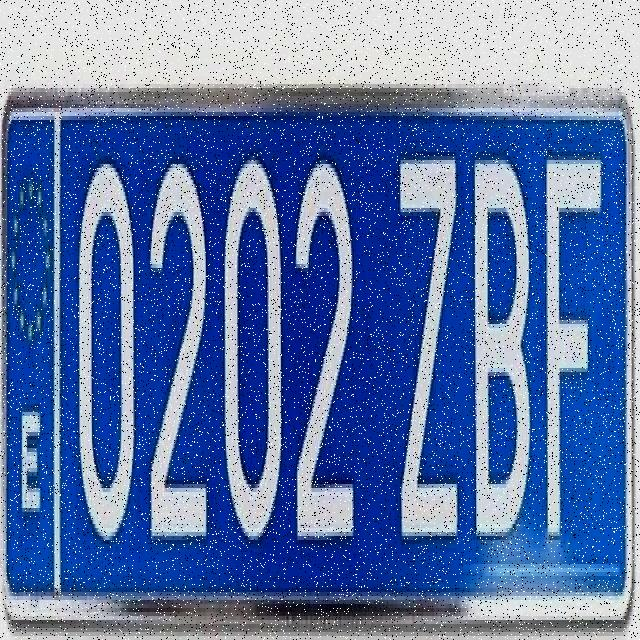licenseplate: (1, 93, 636, 632)
